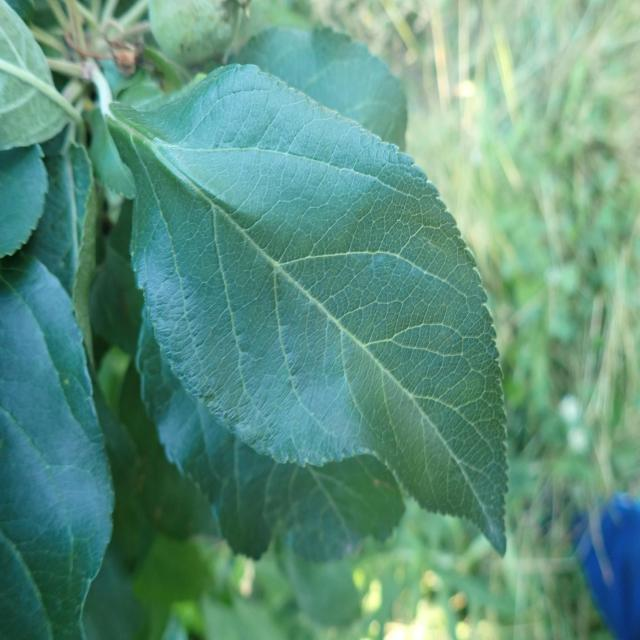healthy: (107, 61, 509, 560), (135, 302, 405, 564), (0, 256, 115, 640), (224, 23, 408, 152), (0, 1, 71, 149)
